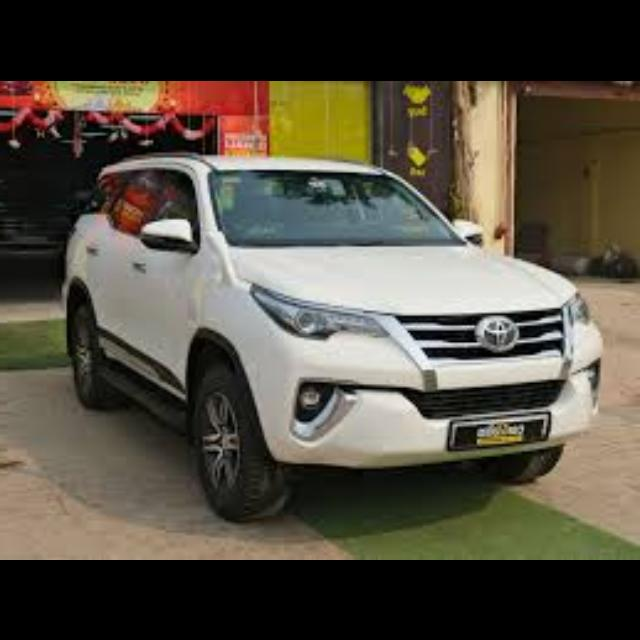number-plate: (450, 408, 554, 448)
vehicles: (57, 151, 611, 527)
